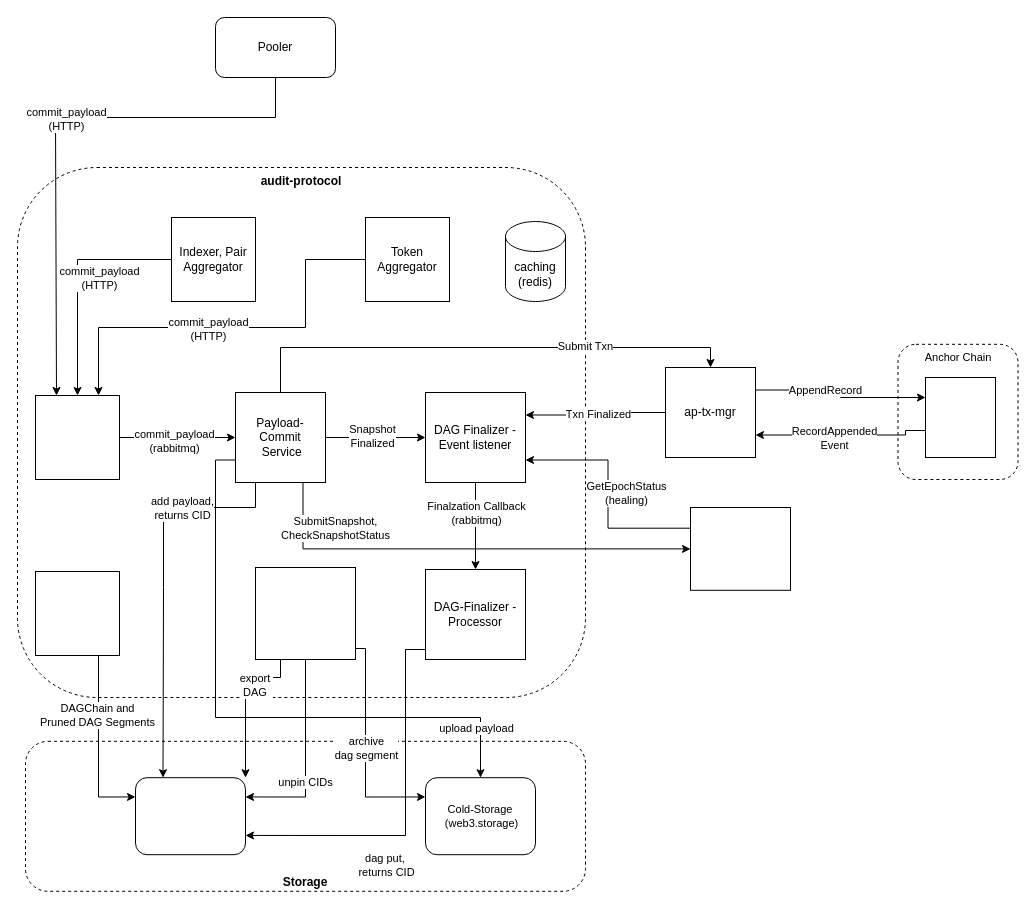
The diagram is 1036 pixels wide and 909 high, and some of its shapes have lost their labels. The shapes that lost their labels are listed below. From the top down, each one's centre as x and y in pixels, then its label:
At point 77,437: "Audit Protocol Backend".
At point 960,417: "Smart contract".
At point 740,548: "off-chain consensus service".
At point 77,613: "DAG Verifier".
At point 305,613: "Pruning-Archival Service".
At point 190,816: "IPFS".
